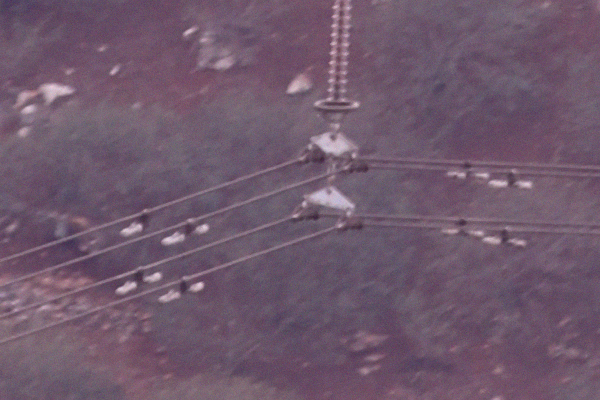damper: (156, 216, 211, 249), (113, 265, 163, 297), (156, 275, 207, 305), (481, 225, 527, 251), (486, 168, 534, 190), (440, 214, 485, 237), (444, 161, 491, 180)
damper_defect: (114, 207, 158, 239)
